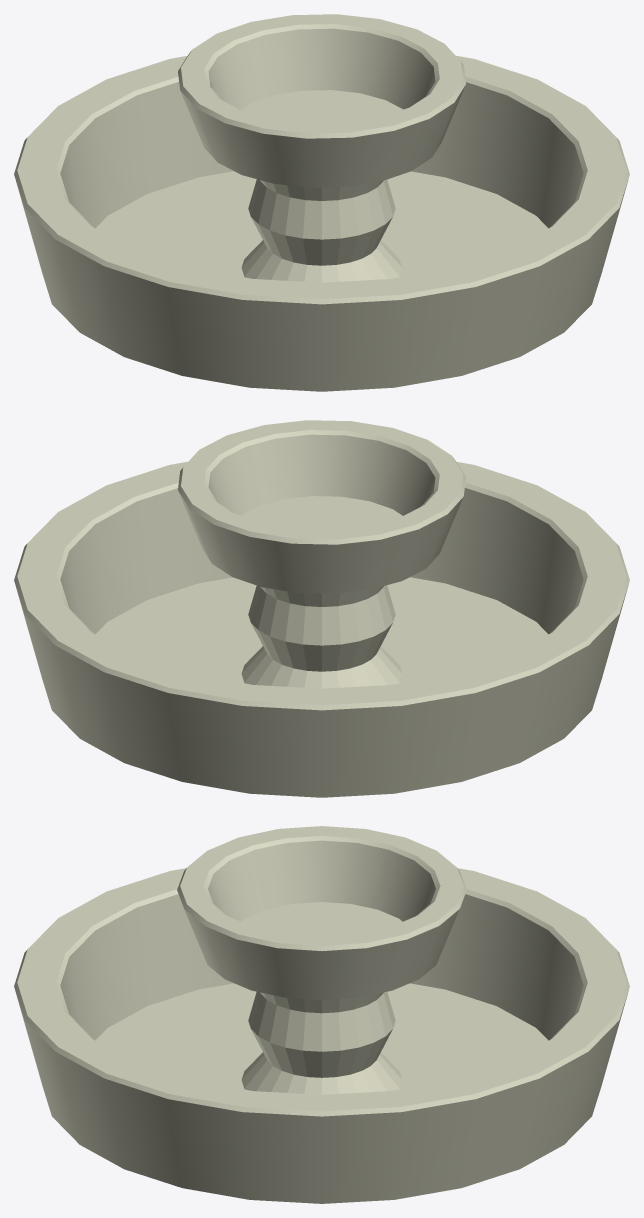
Rendered from FUENTE.fbx.
3 renders of one model, top to bottom at view 1: azimuth 30°, elevation 25°; view 2: azimuth 150°, elevation 25°; view 3: azimuth 270°, elevation 25°, orthographic.
Visible parts, largest first — view 1: Fuente; view 2: Fuente; view 3: Fuente.
Boxes of the visible parts, x1=… form: Fuente: x1=14, y1=14, x2=629, y2=391; Fuente: x1=14, y1=420, x2=629, y2=797; Fuente: x1=14, y1=826, x2=629, y2=1203.
Size of the model in its own units: 4.7 by 1.68 by 4.7.
